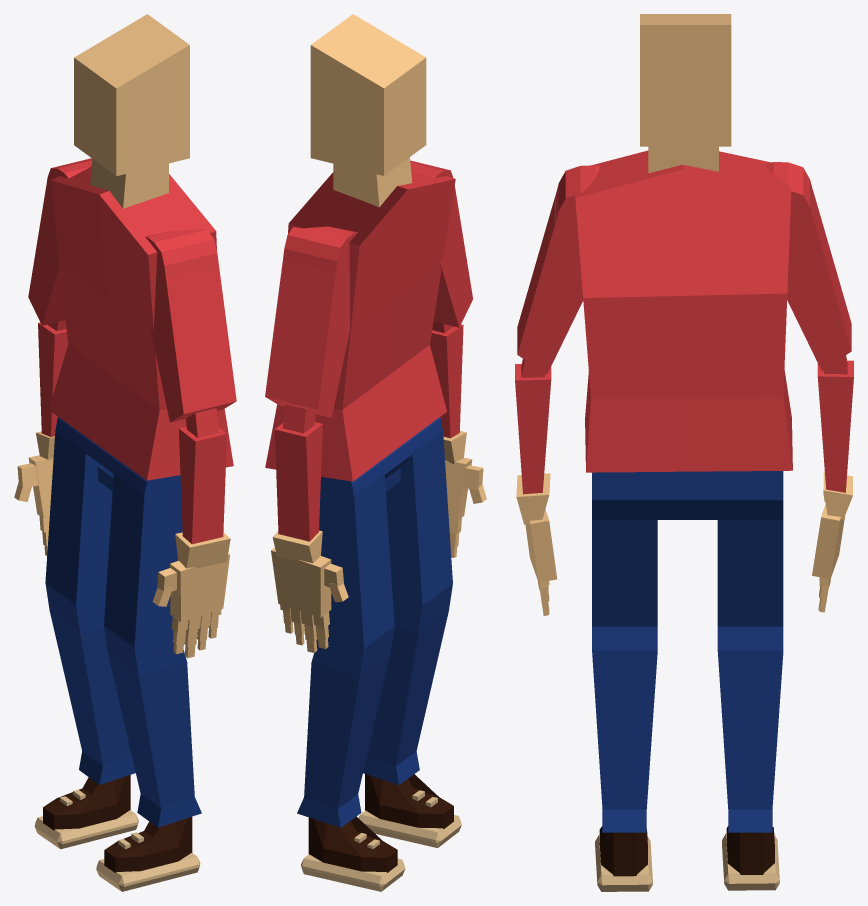
Rendered from PlayerB.fbx.
3 renders of one model, left to right at view 1: azimuth 30°, elevation 25°; view 2: azimuth 150°, elevation 25°; view 3: azimuth 270°, elevation 25°, orthographic. The views are drawn at different scales.
Visible parts, largest first — view 1: Cube.002; view 2: Cube.002; view 3: Cube.002.
Boxes of the visible parts, left/top/right/bottom form: Cube.002: left=14, top=14, right=236, bottom=891; Cube.002: left=265, top=14, right=486, bottom=891; Cube.002: left=515, top=14, right=853, bottom=891.
Bounding box in the file's own units: 317 × 2184 × 769.
